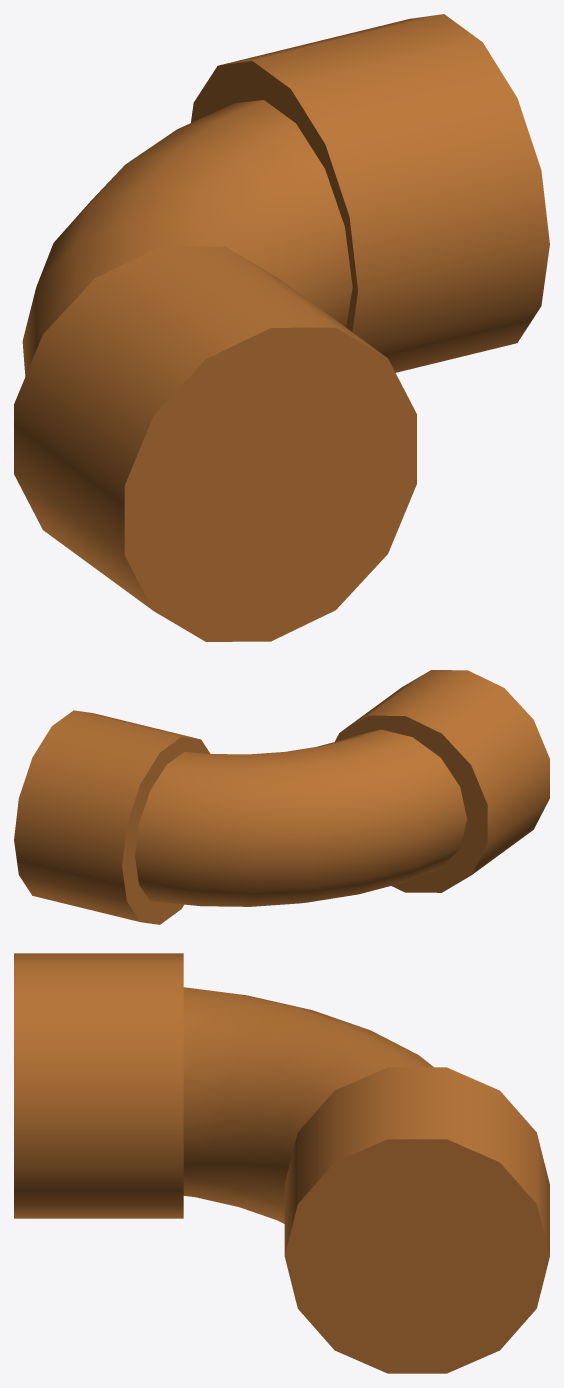
Rendered from services.pipe.elbow_22.glb.
The picture shows the model from 3 angles, top to bottom: view 1: azimuth 30°, elevation 25°; view 2: azimuth 150°, elevation 25°; view 3: azimuth 270°, elevation 25°; orthographic projection. The views are drawn at different scales.
Visible parts, largest first — view 1: main__copper; view 2: main__copper; view 3: main__copper.
Boxes of the visible parts, bbox=[...] form: main__copper: bbox=[14, 14, 549, 641]; main__copper: bbox=[14, 670, 549, 924]; main__copper: bbox=[14, 953, 549, 1373].
Size of the model in its own units: 0.0552 by 0.0275 by 0.0555.
